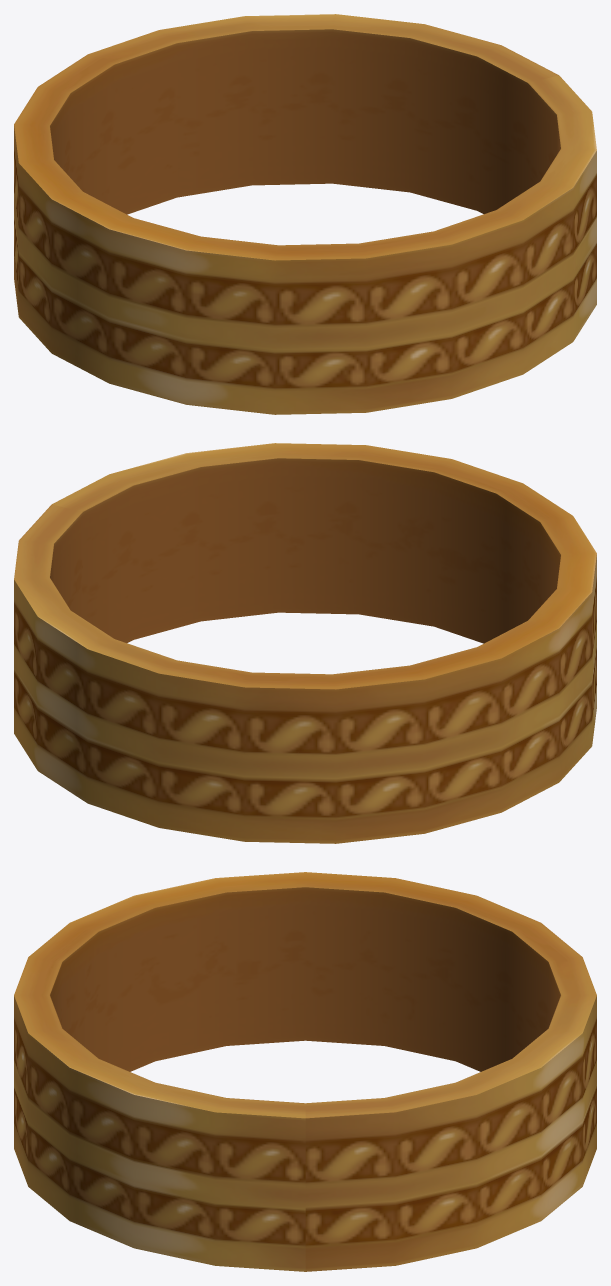
Rendered from ring_copper_13.fbx.
3 views of the same model, one above another, from view 1: azimuth 30°, elevation 25°; view 2: azimuth 150°, elevation 25°; view 3: azimuth 270°, elevation 25° (orthographic).
Visible parts, largest first — view 1: ring_copper_13; view 2: ring_copper_13; view 3: ring_copper_13.
Boxes of the visible parts, x1,y1,x2,y2 form: ring_copper_13: (14, 14, 596, 414); ring_copper_13: (14, 443, 596, 843); ring_copper_13: (14, 872, 596, 1271).
Size of the model in its own units: 2.04 by 0.594 by 2.04.
